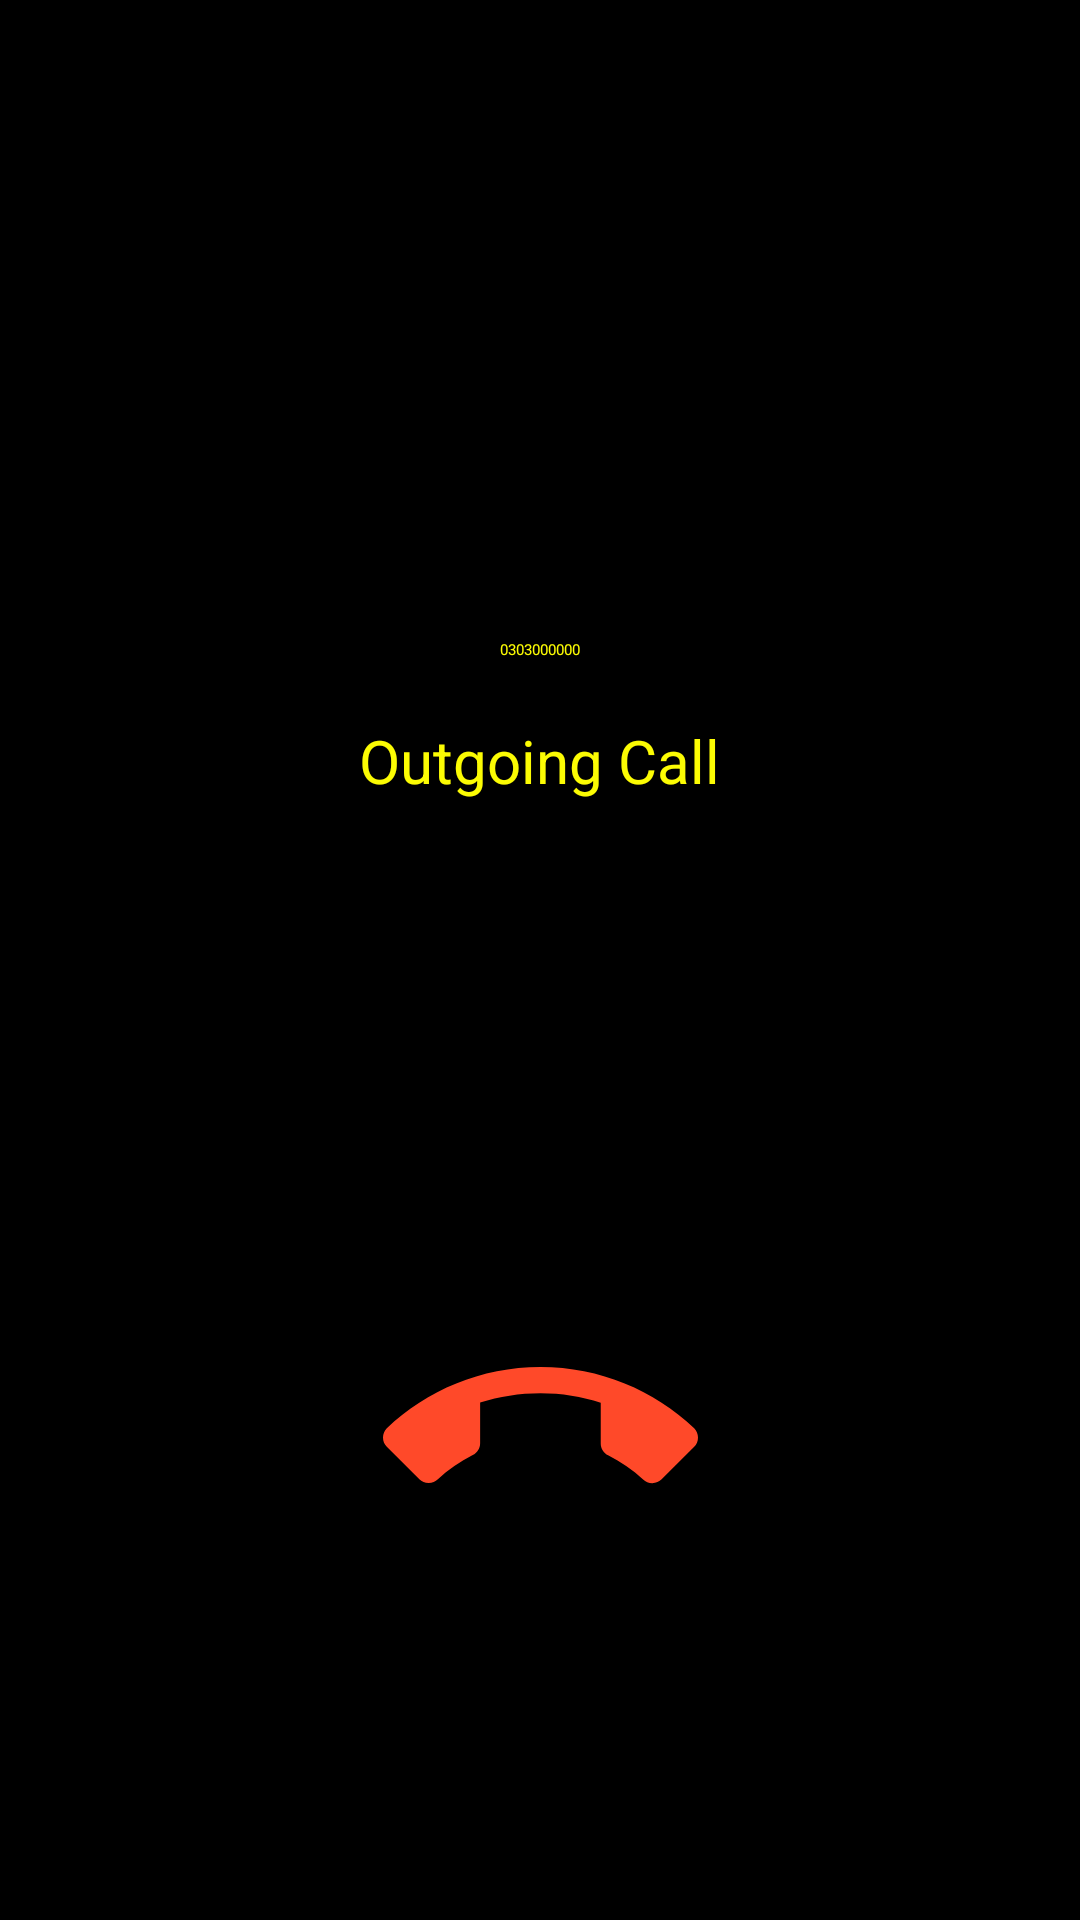

Where icons sit on this 1080px×1920px app screen, as (x1, y1, x2, y2):
callend: (383, 1367, 698, 1484)
